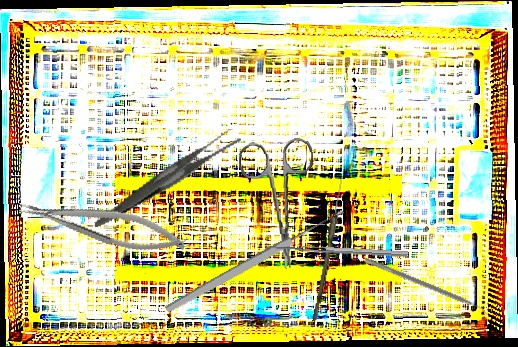Dressing Forceps: (80, 126, 253, 228)
Iris Scissors: (237, 137, 323, 273)
Needle Holder: (16, 185, 189, 264)
Spatula Surgical: (361, 257, 492, 318), (259, 243, 408, 263)
Surgical Spoon: (163, 206, 347, 316), (312, 176, 345, 323)
